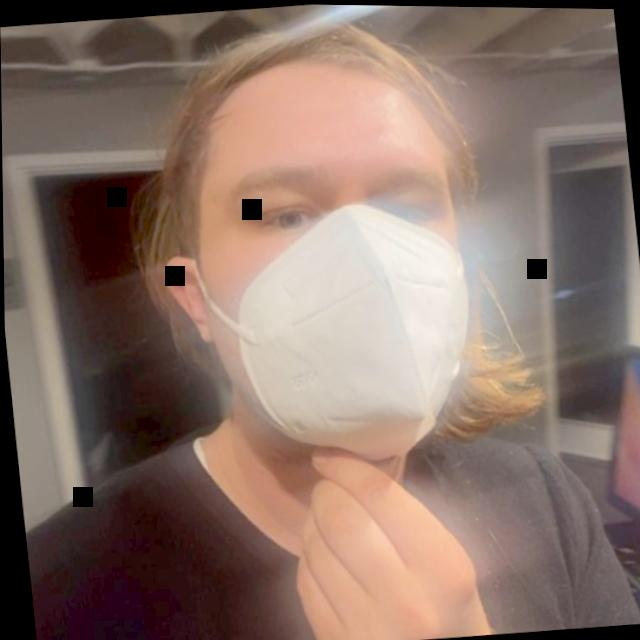Mask: (101, 1, 562, 498)
